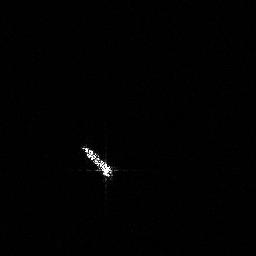ship: (76, 141, 118, 183)
